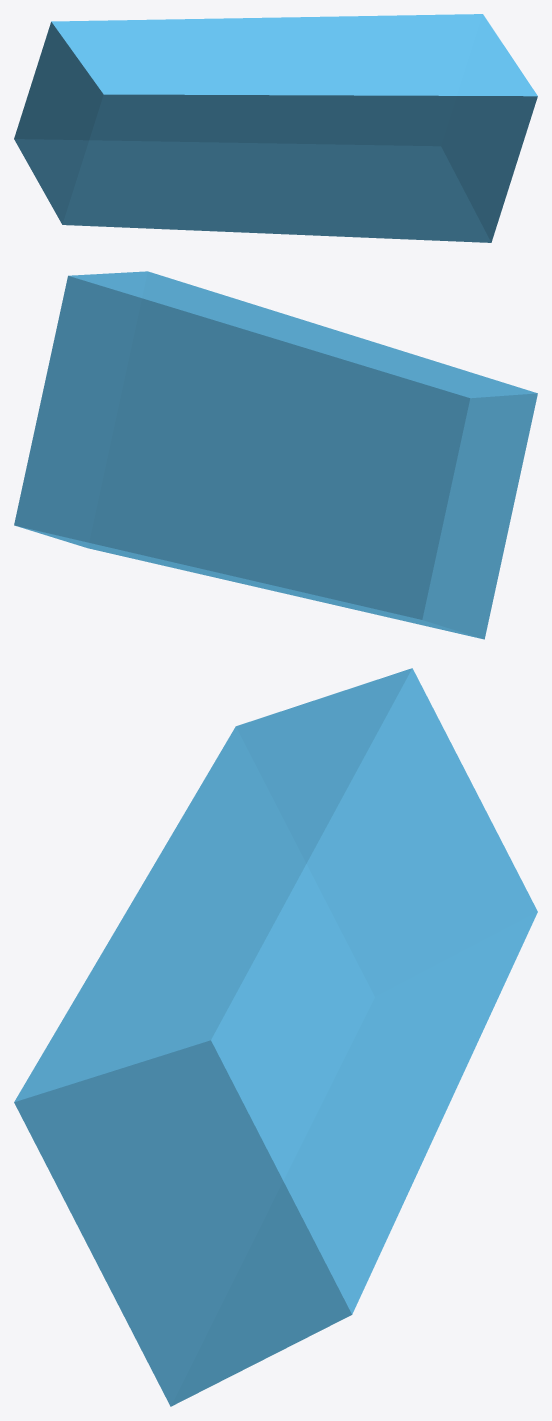
Rendered from Event_420094457_HErechit_69.fbx.
3 renders of one model, top to bottom at view 1: azimuth 30°, elevation 25°; view 2: azimuth 150°, elevation 25°; view 3: azimuth 270°, elevation 25°, orthographic. The views are drawn at different scales.
Parts seen in each view (by area): view 1: Model; view 2: Model; view 3: Model.
Part boxes in pixels (box(x1,y1,x2,y2)): Model: box(14, 14, 537, 242); Model: box(14, 271, 537, 639); Model: box(14, 668, 537, 1406).
Size of the model in its own units: 1.4 by 0.9281 by 1.01.
